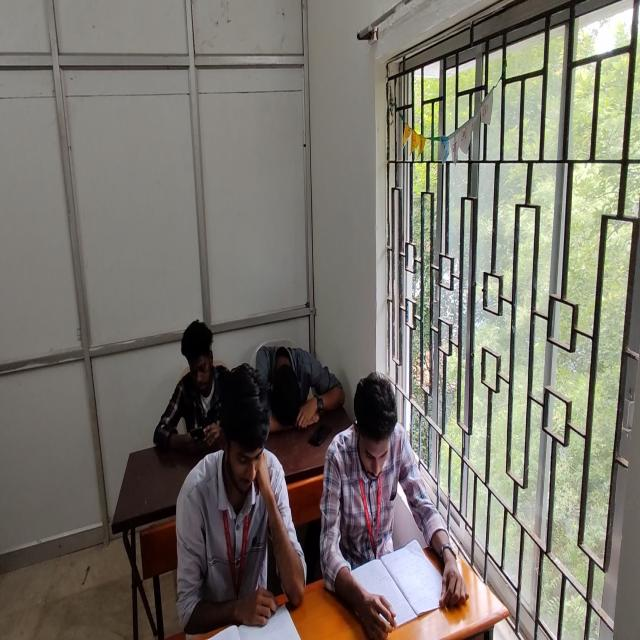reading: (176, 359, 307, 636), (326, 370, 453, 637)
sleeping: (256, 344, 342, 433)
using_mobile: (152, 319, 230, 455)
